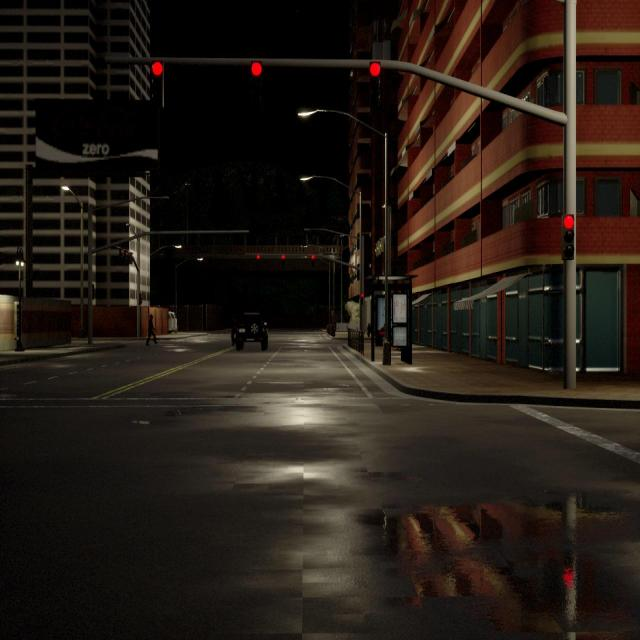Pedestrian: (145, 315, 158, 345)
Vehicle: (232, 313, 268, 350), (168, 312, 177, 334)
traffic_light: (562, 213, 574, 260), (152, 60, 162, 104), (369, 61, 381, 77), (250, 60, 262, 76), (124, 250, 128, 265), (120, 248, 123, 265), (139, 293, 143, 305), (129, 252, 133, 264), (256, 254, 260, 260), (281, 254, 285, 260), (311, 254, 315, 260), (361, 294, 363, 304)
